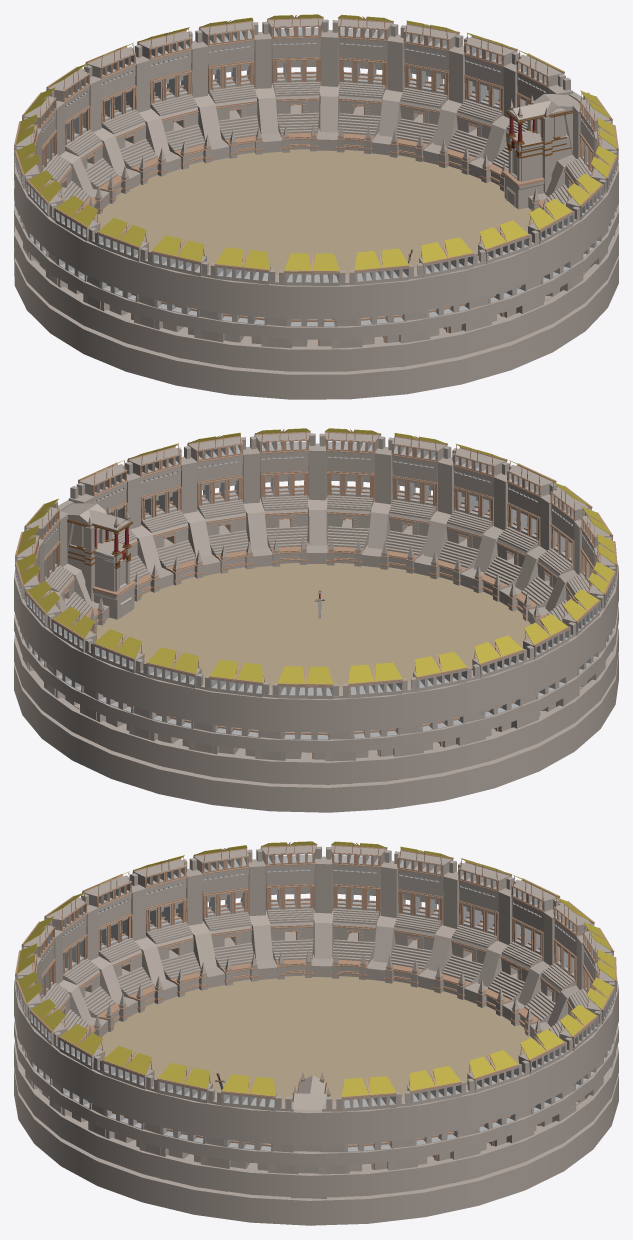
Rendered from Arena.fbx.
3 views of the same model, one above another, from view 1: azimuth 30°, elevation 25°; view 2: azimuth 150°, elevation 25°; view 3: azimuth 270°, elevation 25° (orthographic).
Parts seen in each view (by area): view 1: pCylinder1, pCylinder12, pCylinder13, pCylinder16, pCylinder14, pCylinder15, pCube267, polySurface50, polySurface51, polySurface49, polySurface52, polySurface48 (+37 smaller); view 2: pCylinder1, pCylinder12, pCylinder13, pCylinder16, pCylinder14, pCylinder15, pCube267, polySurface33, polySurface32, polySurface34, polySurface31, polySurface30 (+37 smaller); view 3: pCylinder1, pCylinder12, pCylinder13, pCylinder16, pCylinder14, pCylinder15, polySurface41, polySurface42, polySurface40, polySurface43, polySurface39, polySurface44 (+38 smaller).
Part boxes in pixels (box(x1,y1,x2,y2)): pCylinder1: box(95, 149, 533, 275); pCylinder12: box(14, 236, 618, 399); pCylinder13: box(14, 210, 618, 370); pCylinder16: box(14, 91, 618, 307); pCylinder14: box(14, 77, 618, 339); pCylinder15: box(14, 62, 618, 319); pCube267: box(502, 94, 579, 209); polySurface50: box(267, 14, 323, 149); polySurface51: box(338, 14, 393, 150); polySurface49: box(198, 17, 258, 154); polySurface52: box(396, 20, 459, 158); polySurface48: box(137, 27, 204, 164); pCylinder1: box(96, 563, 530, 688); pCylinder12: box(14, 654, 618, 812); pCylinder13: box(14, 627, 618, 784); pCylinder16: box(14, 500, 618, 720); pCylinder14: box(14, 492, 618, 752); pCylinder15: box(14, 475, 618, 732); pCube267: box(61, 503, 136, 619); polySurface33: box(324, 428, 381, 563); polySurface32: box(254, 428, 310, 563); polySurface34: box(386, 433, 447, 569); polySurface31: box(187, 432, 248, 569); polySurface30: box(127, 443, 196, 580); pCylinder1: box(98, 975, 530, 1101); pCylinder12: box(14, 1069, 618, 1225); pCylinder13: box(14, 1042, 618, 1197); pCylinder16: box(14, 978, 618, 1134); pCylinder14: box(14, 909, 618, 1165); pCylinder15: box(14, 888, 618, 1145); polySurface41: box(260, 841, 317, 976); polySurface42: box(331, 841, 387, 977); polySurface40: box(193, 845, 253, 981); polySurface43: box(391, 846, 453, 983); polySurface39: box(132, 855, 200, 991); polySurface44: box(442, 858, 512, 994).
Bounding box in the file's own units: 690 × 173 × 690.
